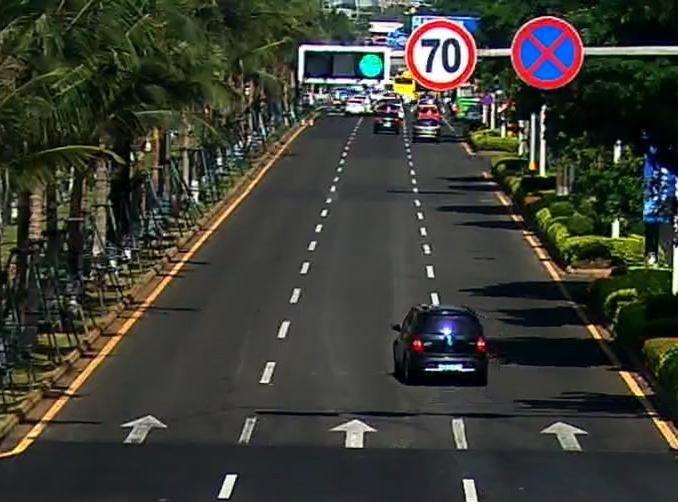green: (355, 54, 384, 77)
